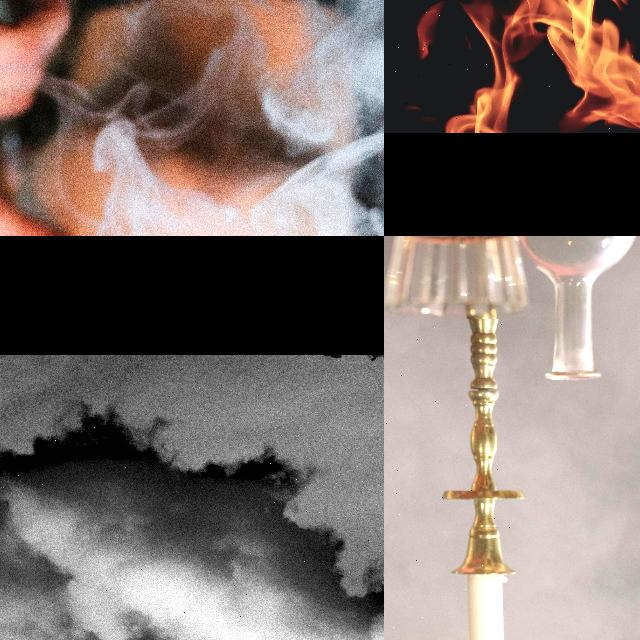smoke: (0, 418, 384, 640), (384, 319, 467, 640)
